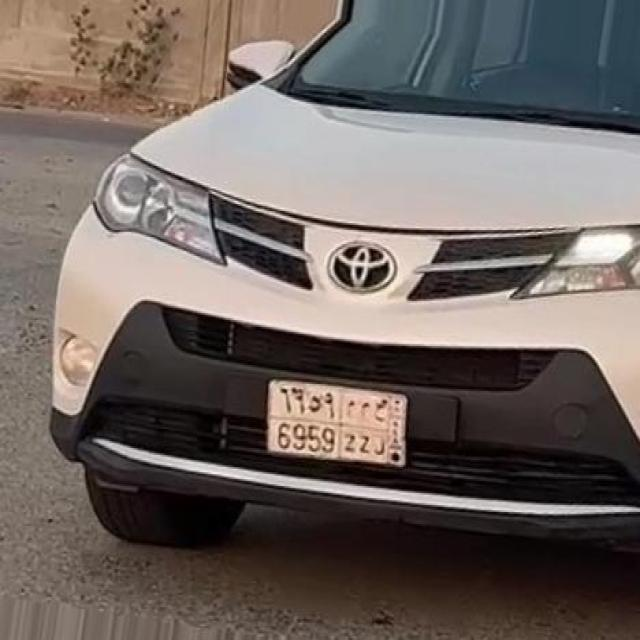Car-plate: (257, 365, 419, 480)
